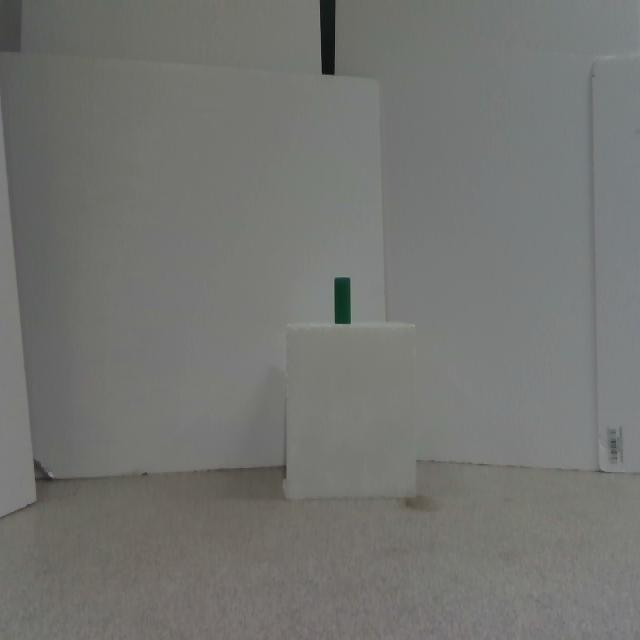green_cylinder: (334, 277, 351, 324)
